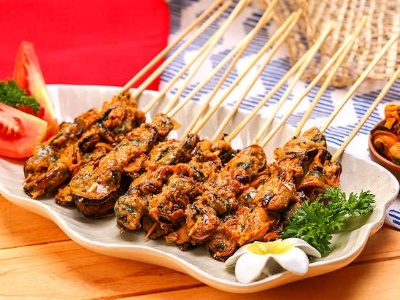sate: (69, 9, 343, 234)
